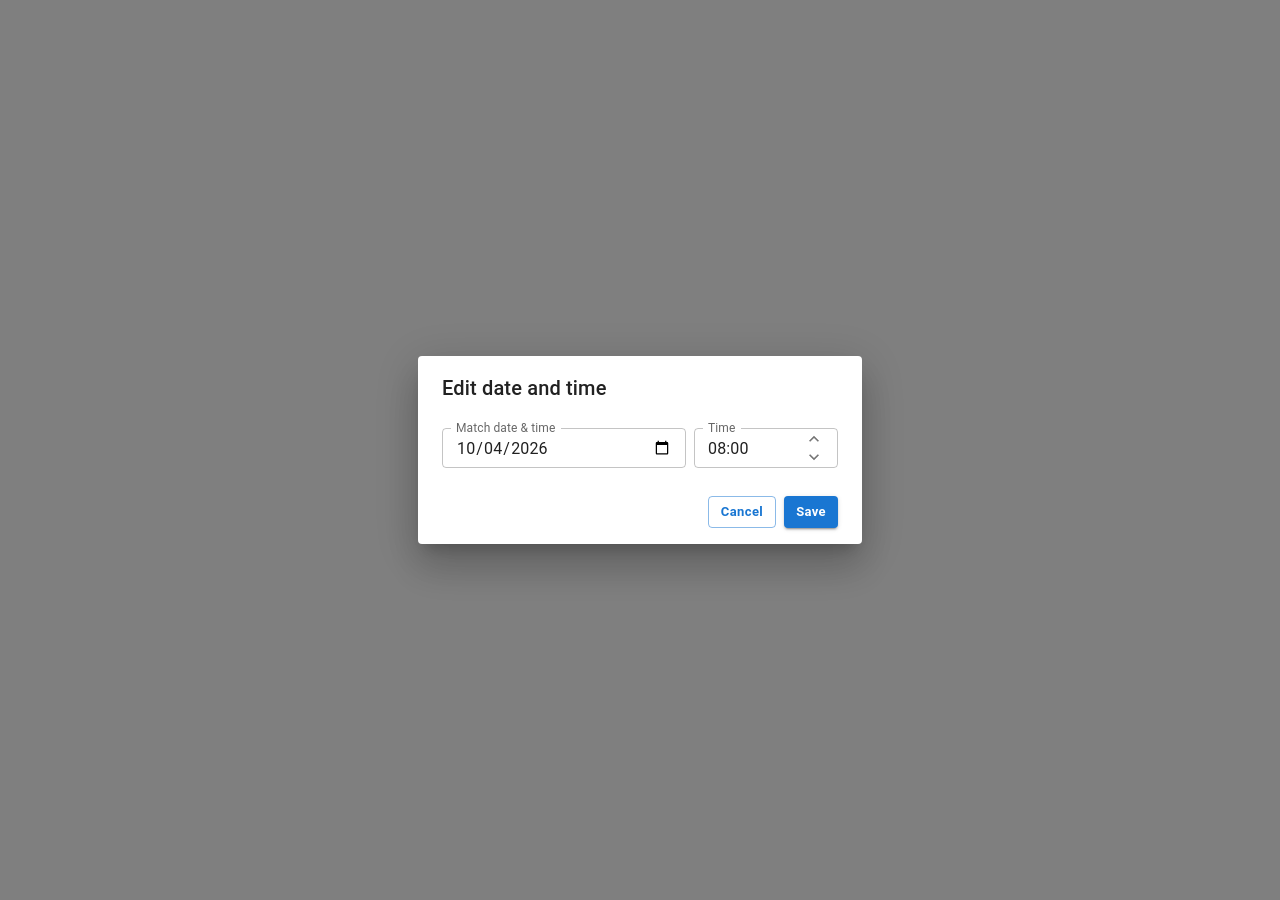
Test: MatchDateTimeDialog › shows the league-dates refusal on the field and stays open
The image size is (1280, 900).
Click the button "Save" at point(811, 512), box [784,496,838,528]
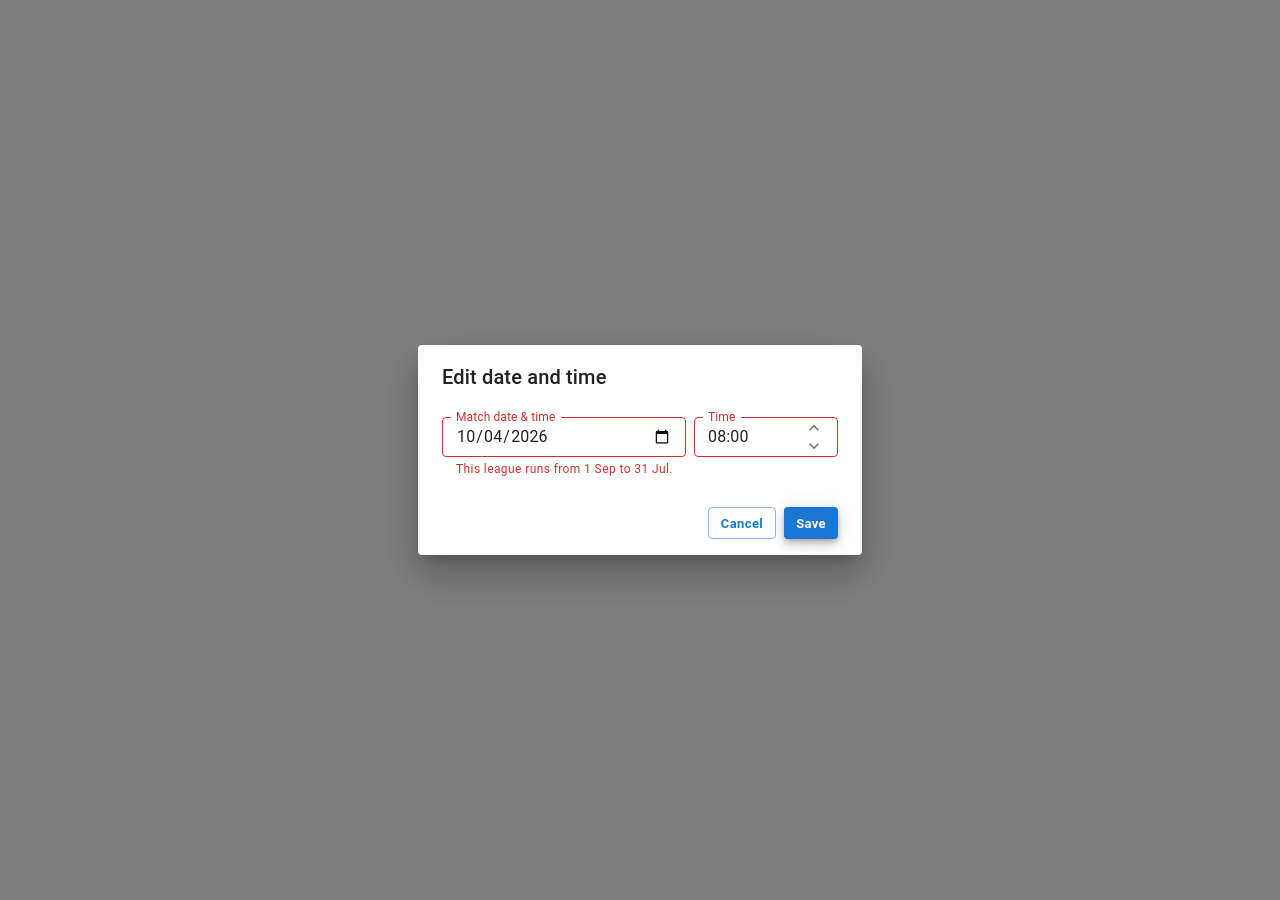
Expected: the text "This league runs from 1 Sep to 31 Jul." is shown, [456,462,673,476]
